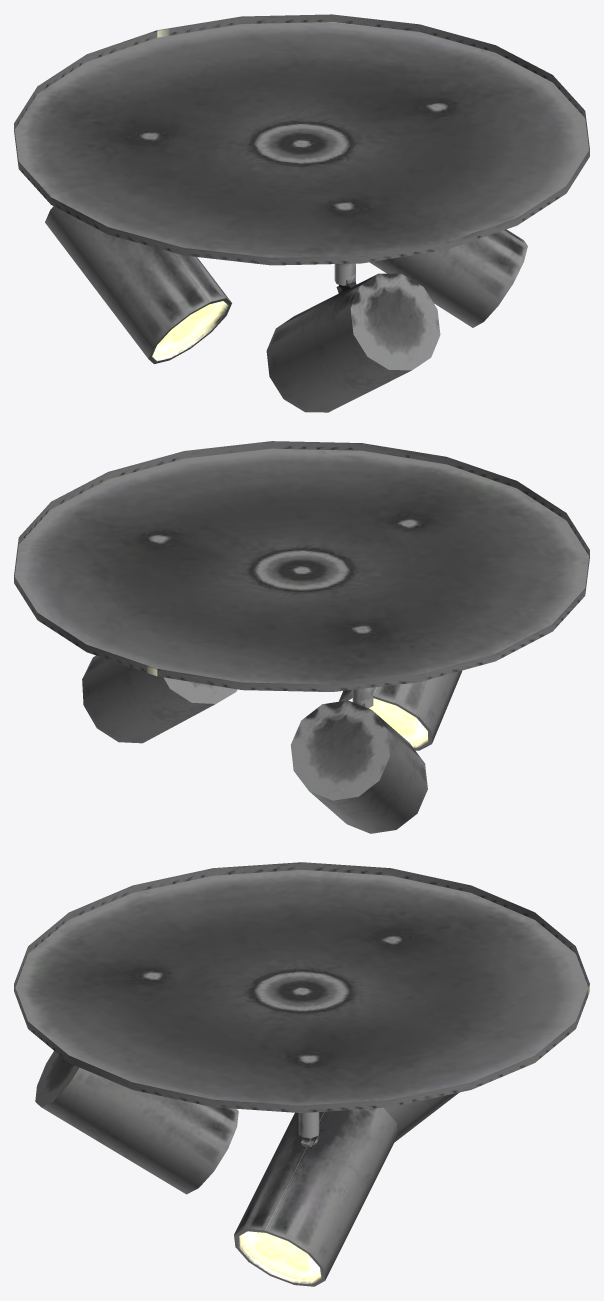
The model's file is SM_Light_Ceiling_01.glb.
3 renders of one model, top to bottom at view 1: azimuth 30°, elevation 25°; view 2: azimuth 150°, elevation 25°; view 3: azimuth 270°, elevation 25°, orthographic.
Parts seen in each view (by area): view 1: SM_Light_Ceiling_01; view 2: SM_Light_Ceiling_01; view 3: SM_Light_Ceiling_01.
Boxes of the visible parts, x1,y1,x2,y2 form: SM_Light_Ceiling_01: [14, 14, 589, 412]; SM_Light_Ceiling_01: [14, 441, 589, 833]; SM_Light_Ceiling_01: [14, 862, 589, 1286].
Bounding box in the file's own units: 0.4011 × 0.1705 × 0.4011.
1 material, 1 textured.
